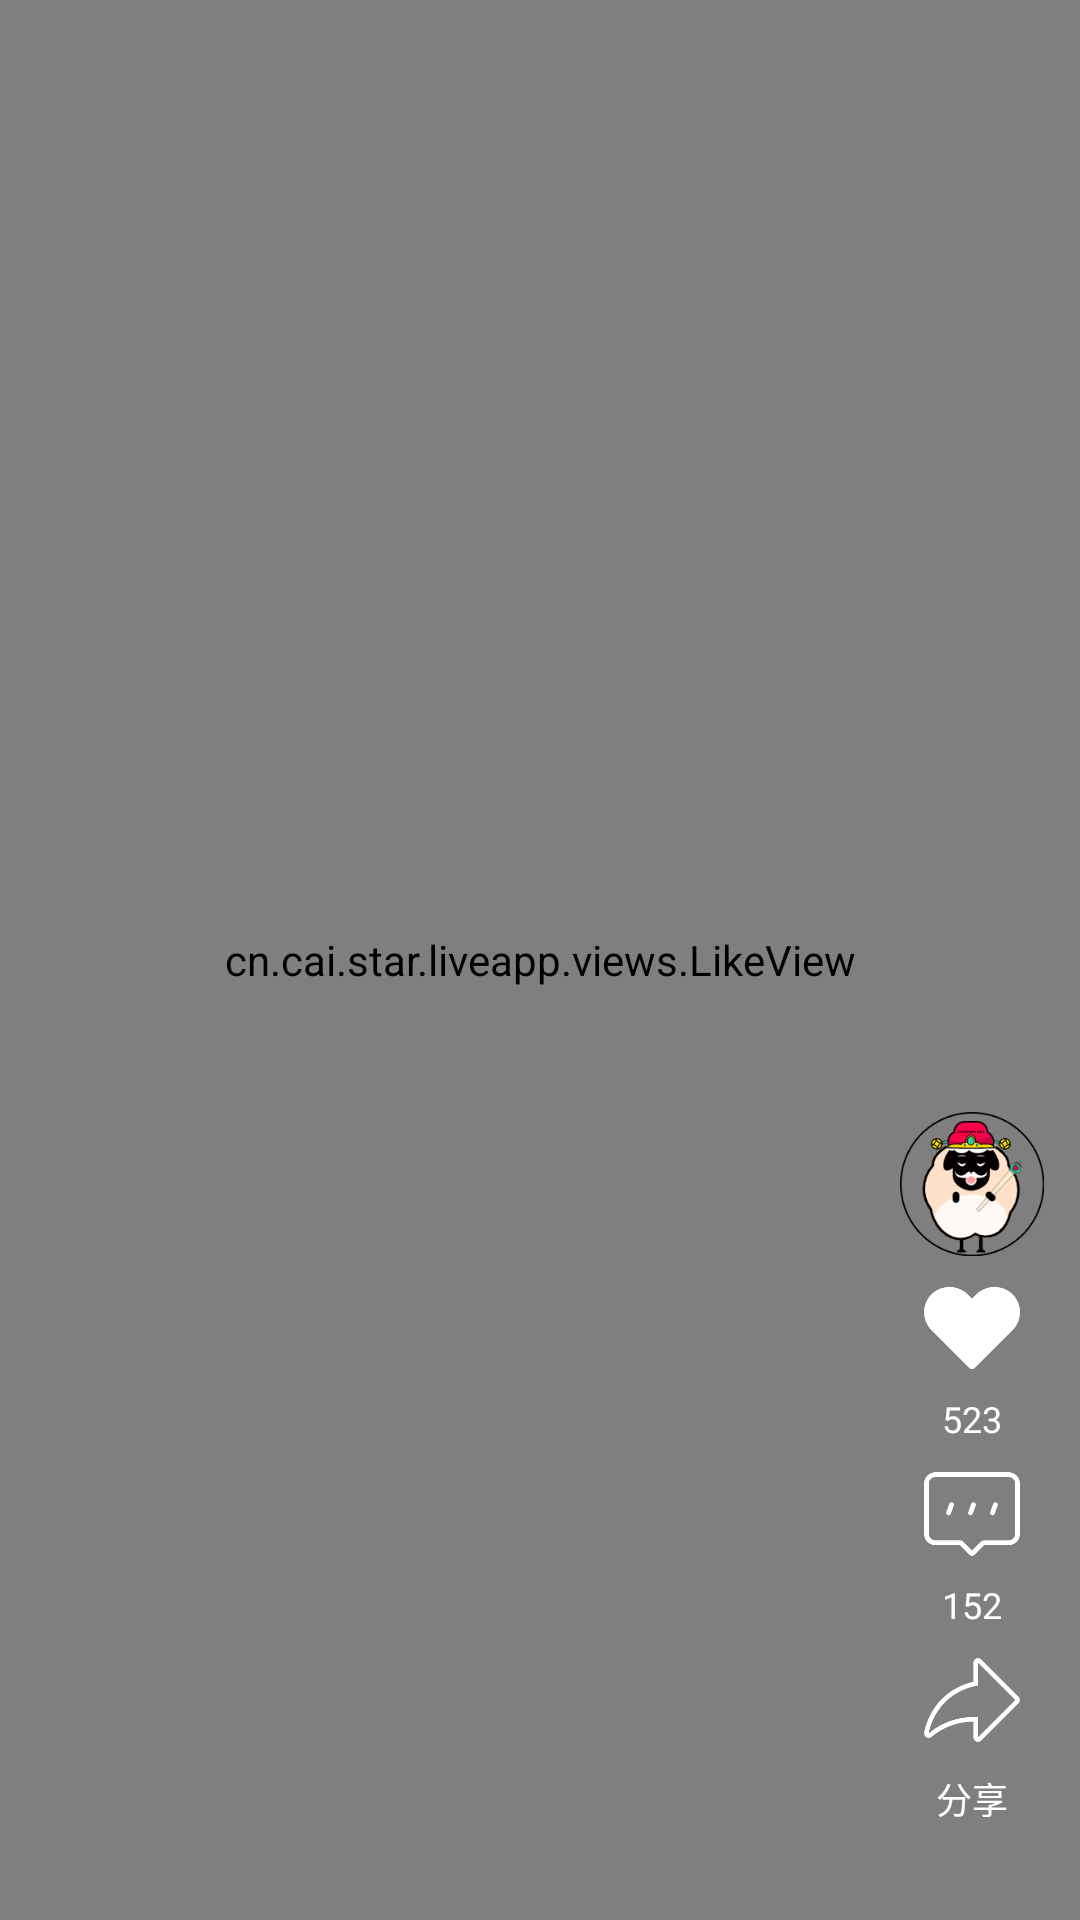

Where to tap for icons on this 1080 × 1920 app screen, as (x,y):
user: (972,1184)
